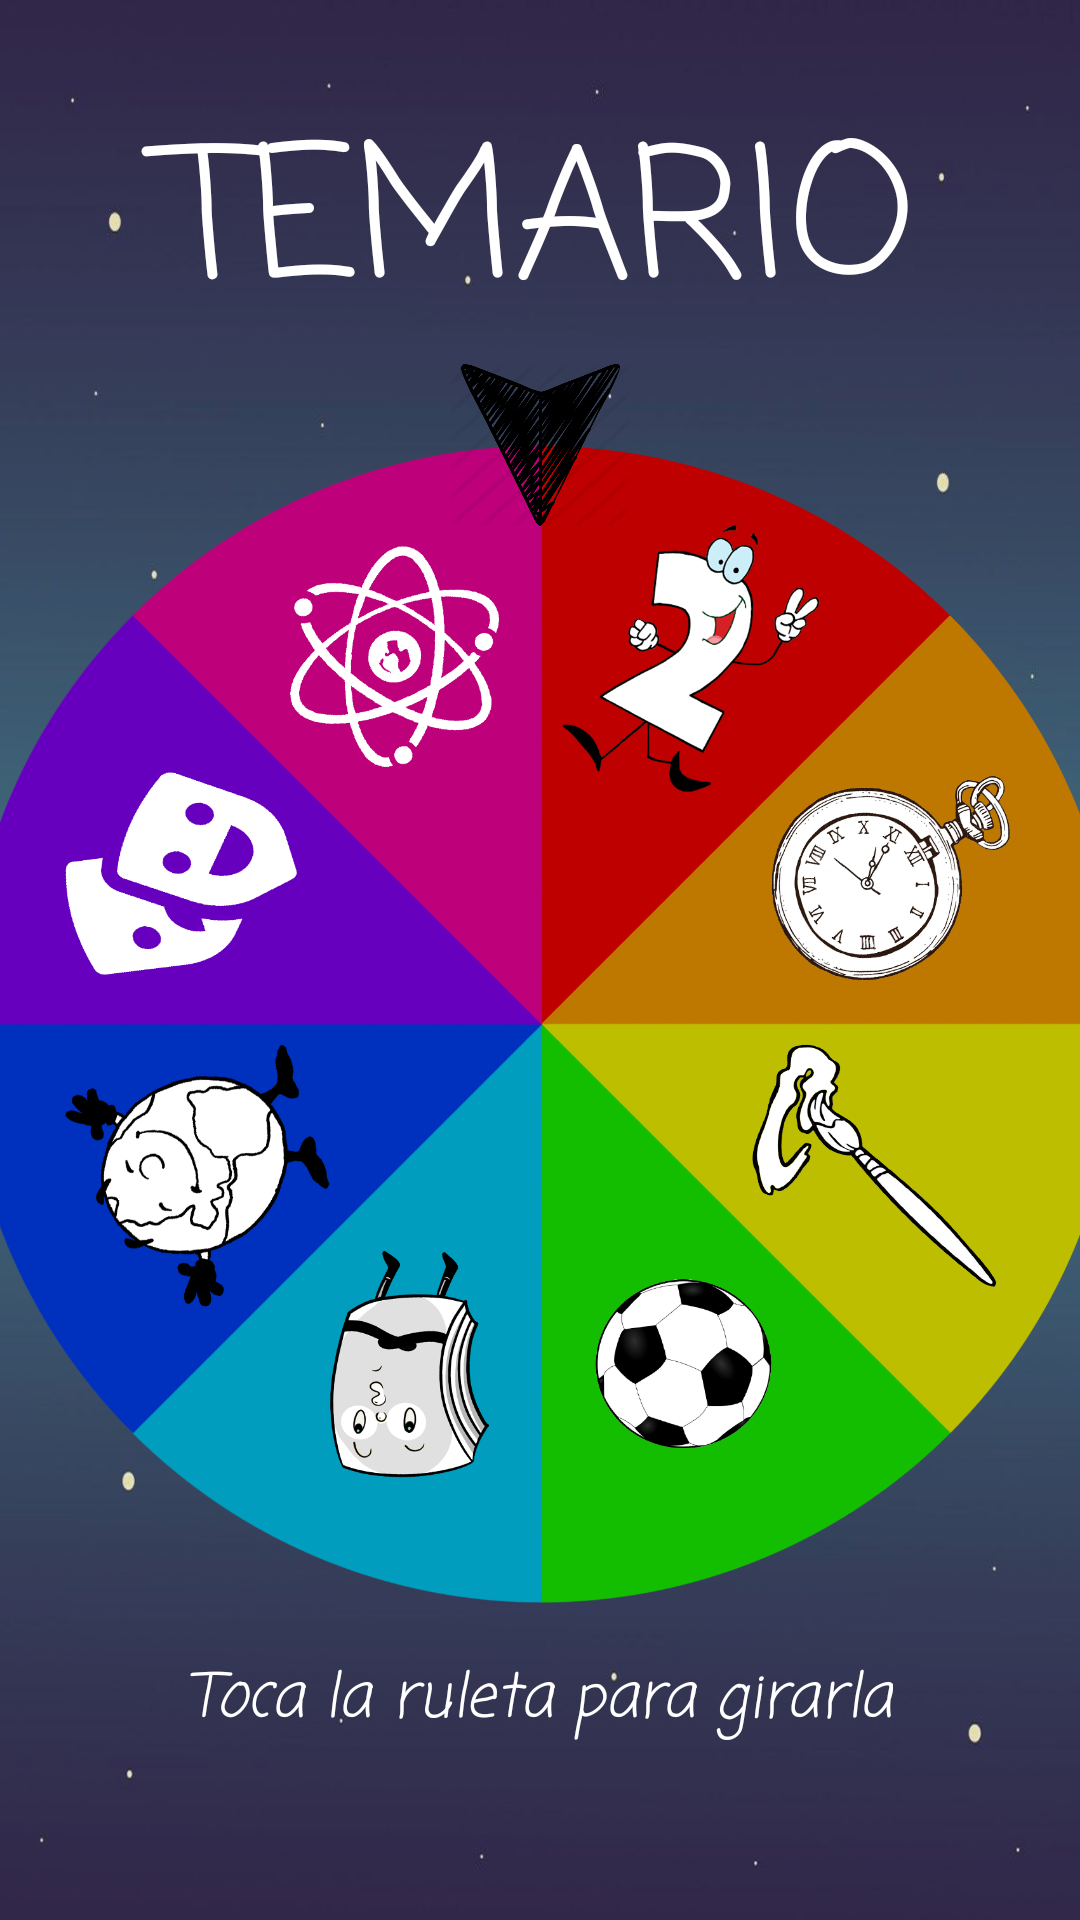

Point at icon controls on the screen. Image size 1080×1920, points as [x,y].
flehca: [540,445]
